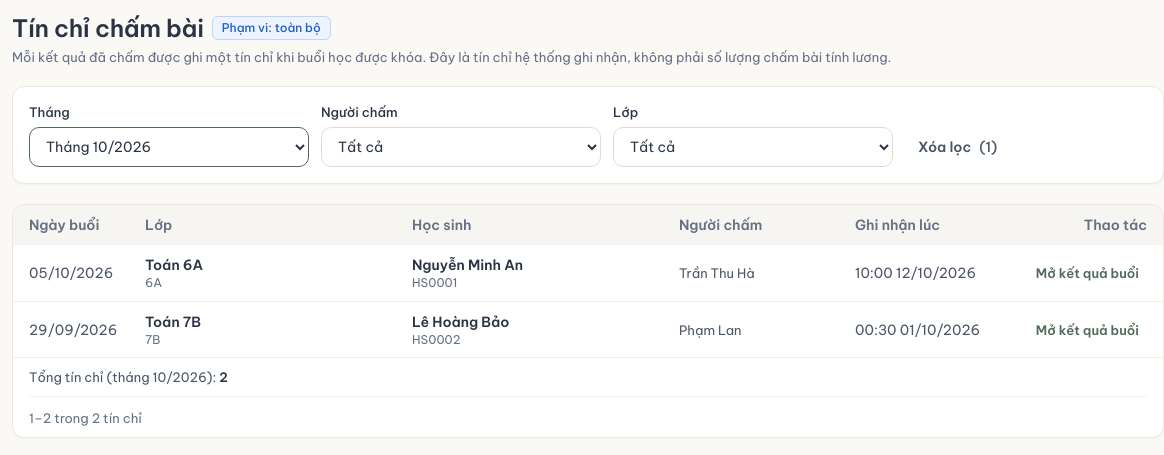
Test: GradingCreditListPage Vietnam month › puts the 23:59 credit of 30 Sep in September and lists months newest first
The image size is (1164, 455).
Select "Tháng 09/2026" in the dropdown with test id "desktop-credit-month": (169, 147) top-left (29, 127), bottom-right (309, 167)
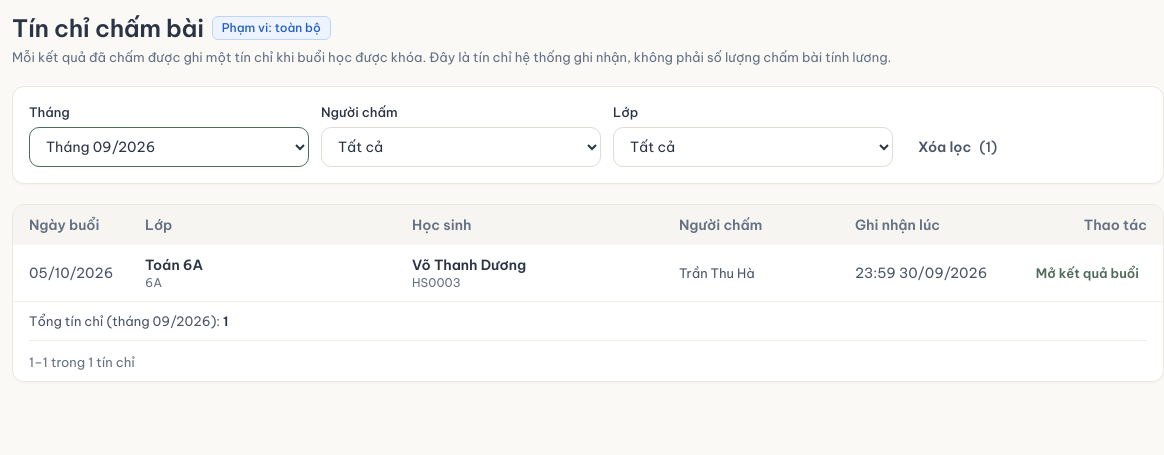
Check: the row that starts with "Toán 6A" shows "Võ Thanh Dương", box top-left (412, 256), bottom-right (526, 274)
Check: the row that starts with "Toán 6A" shows "23:59 30/09/2026", box top-left (855, 264), bottom-right (987, 282)
